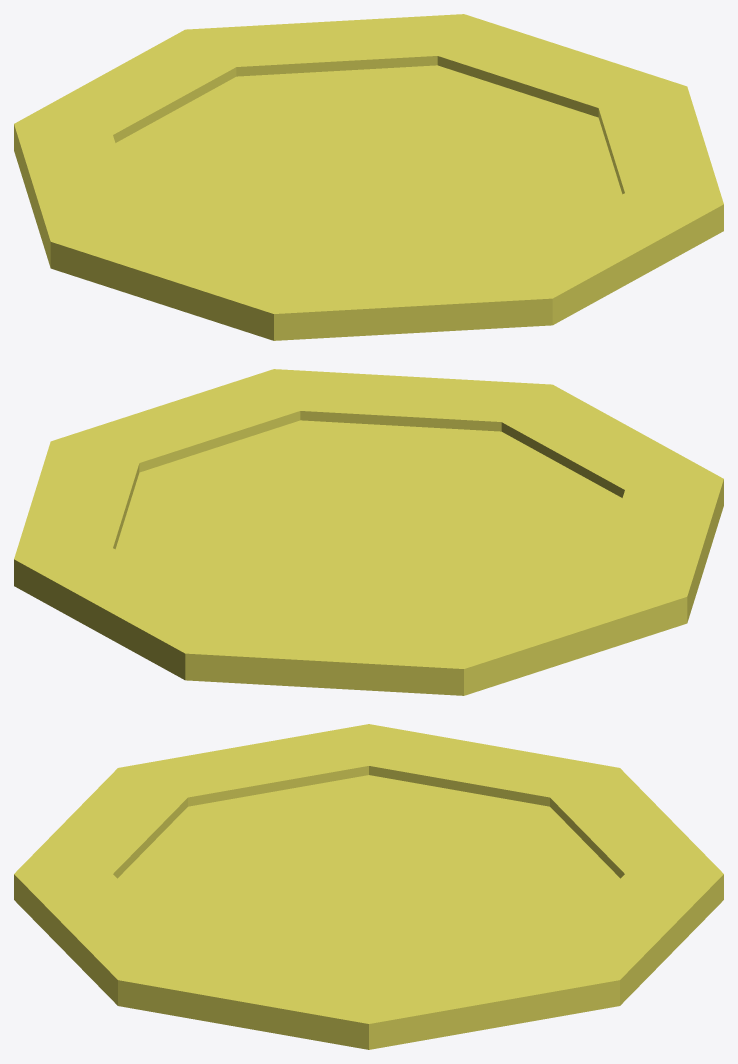
File: LowPolyCoin.fbx
3 views of the same model, one above another, from view 1: azimuth 30°, elevation 25°; view 2: azimuth 150°, elevation 25°; view 3: azimuth 270°, elevation 25° (orthographic). The views are drawn at different scales.
Parts seen in each view (by area): view 1: Cylinder; view 2: Cylinder; view 3: Cylinder.
Boxes of the visible parts, <box> form: Cylinder: <box>14,14,723,340</box>; Cylinder: <box>14,369,723,695</box>; Cylinder: <box>14,724,723,1049</box>.
Size of the model in its own units: 200 by 8.05 by 200.
